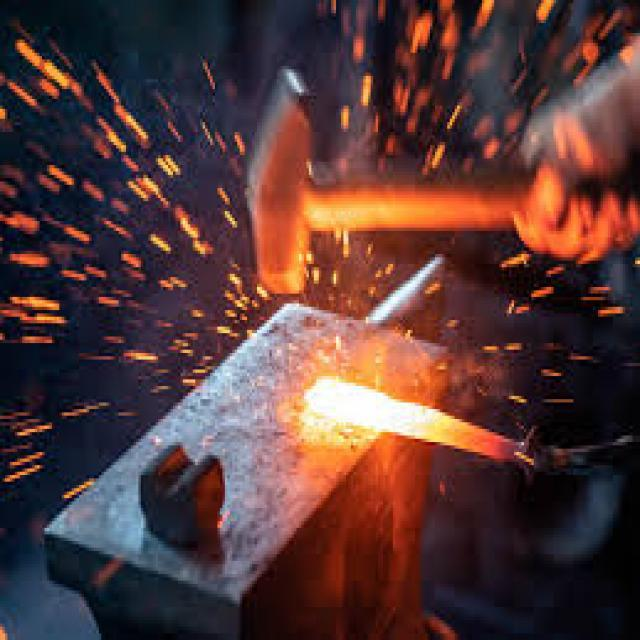hammer: (240, 51, 542, 309)
